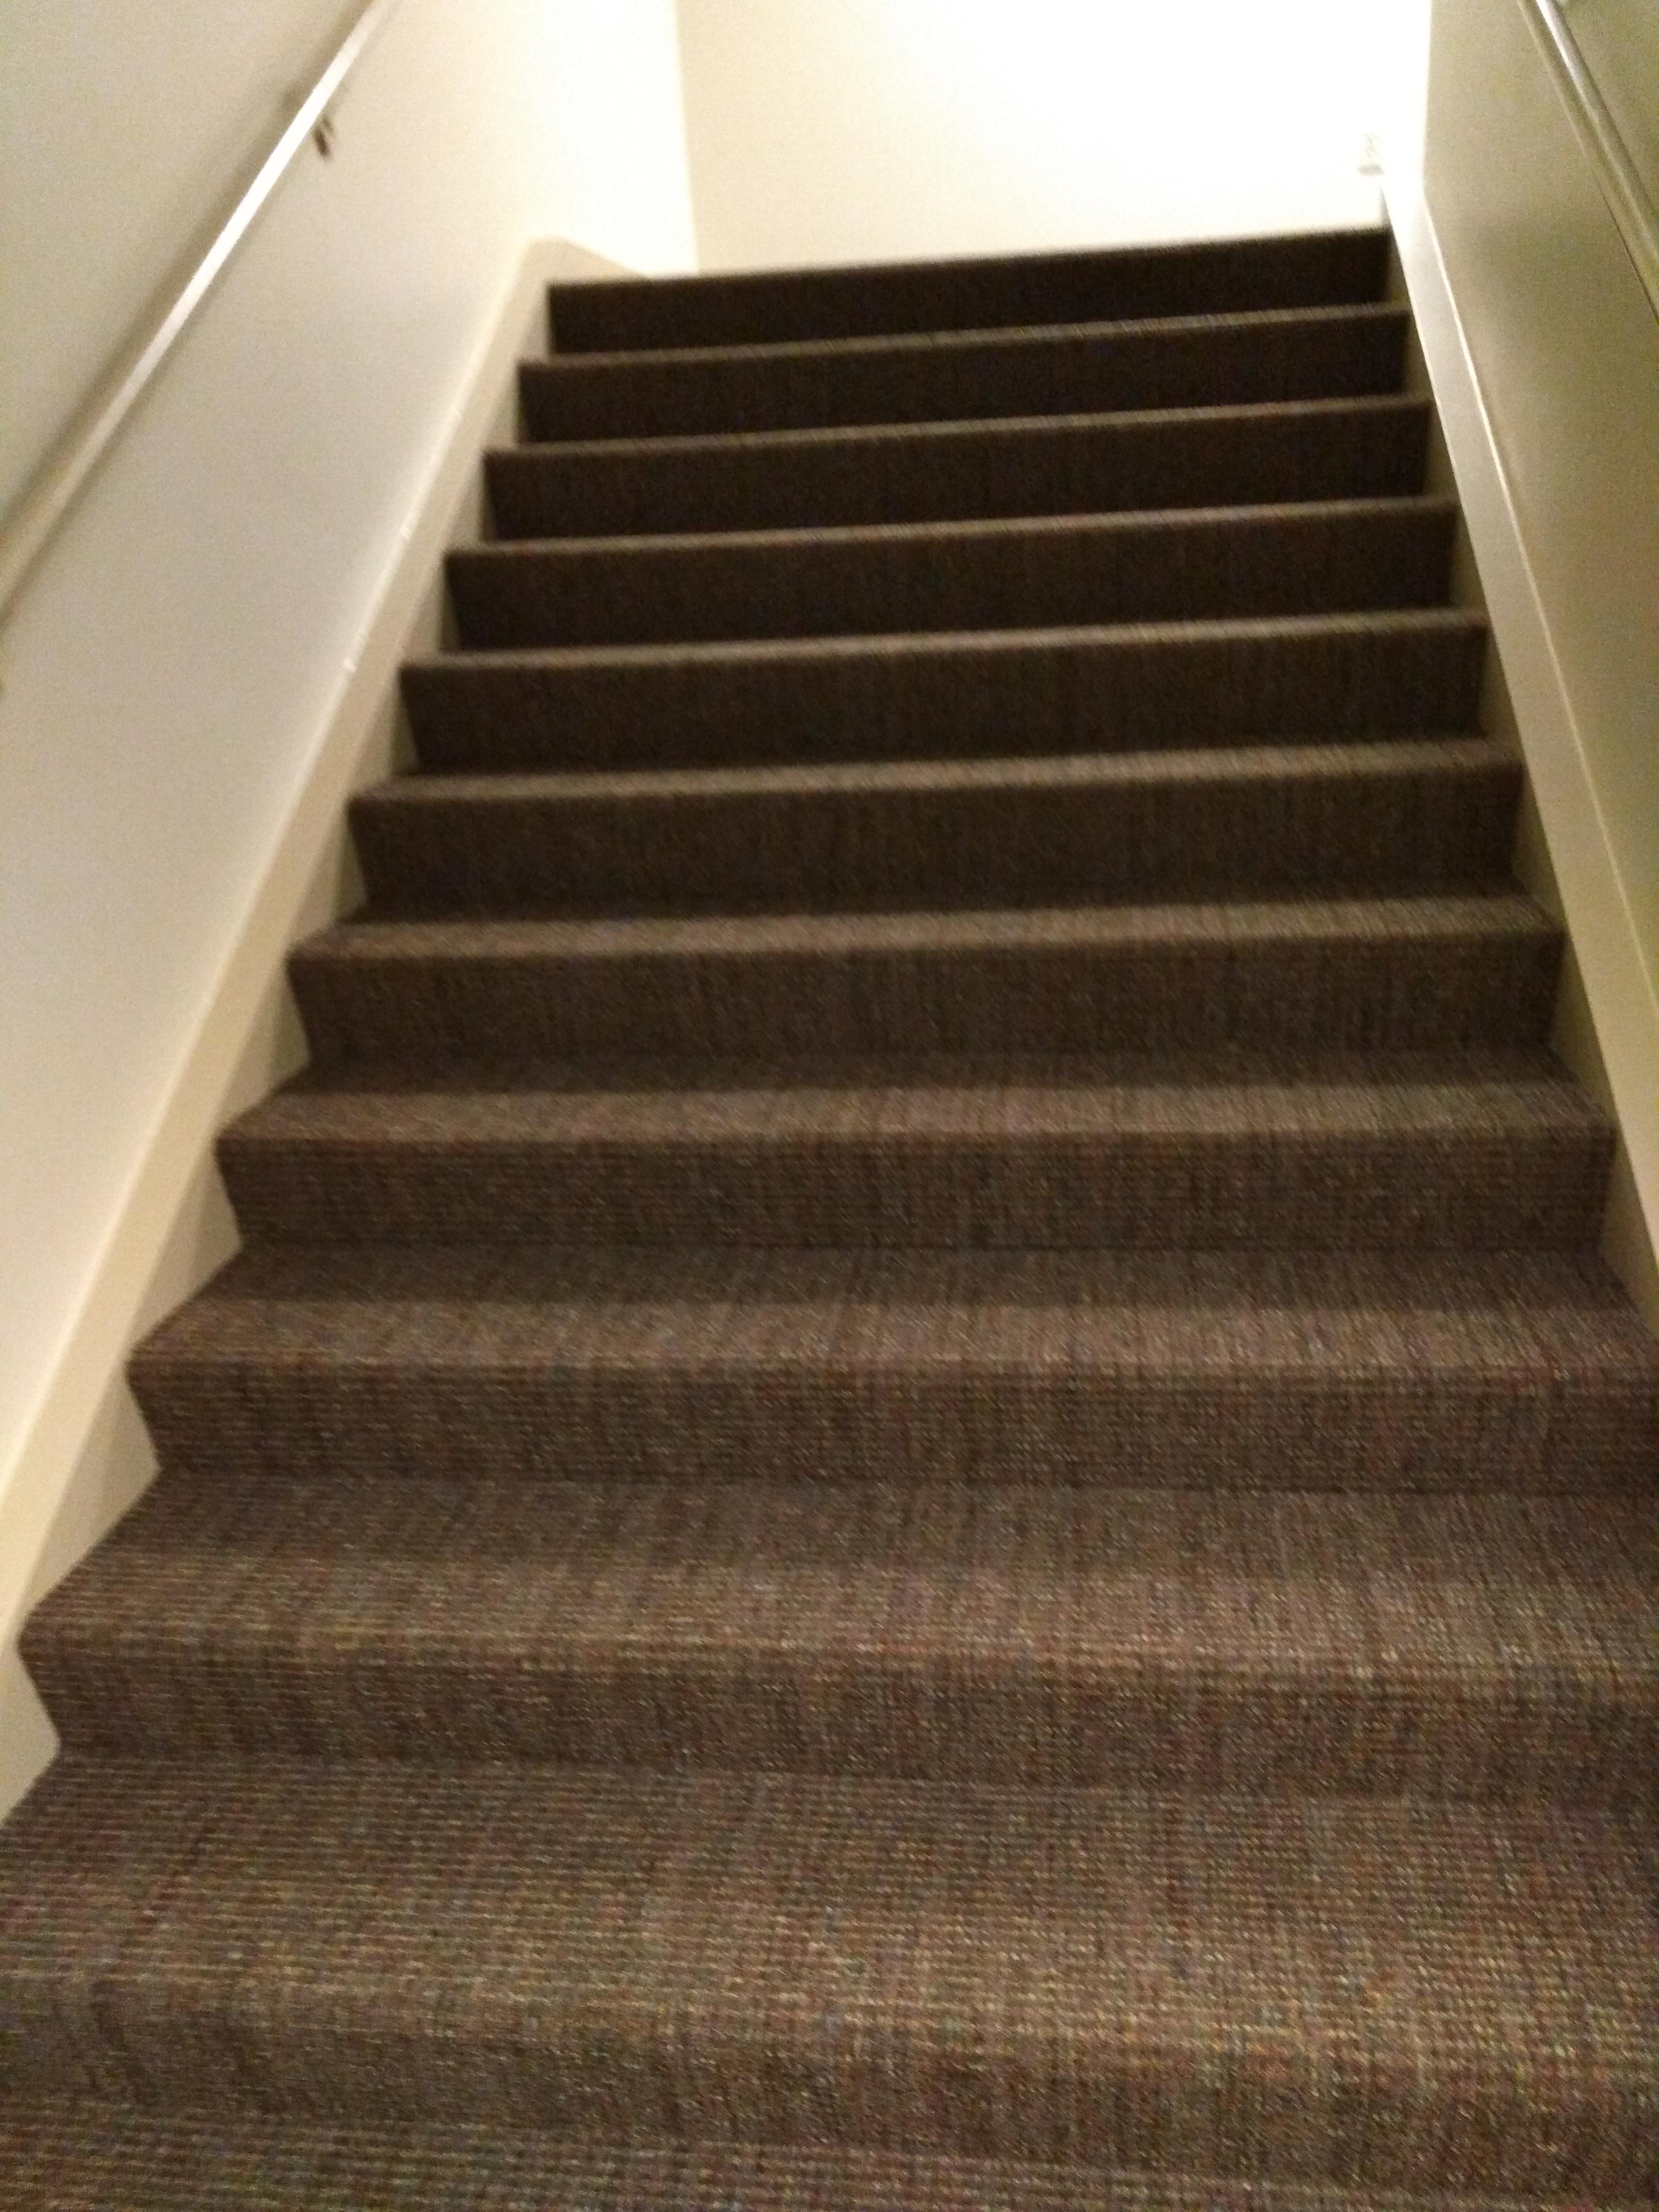stairs_up: (31, 92, 1542, 2151)
